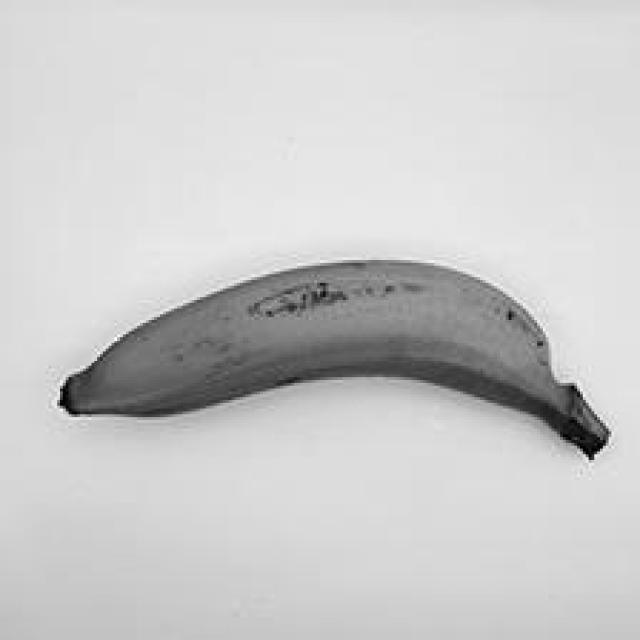Raw: (45, 216, 624, 502)
